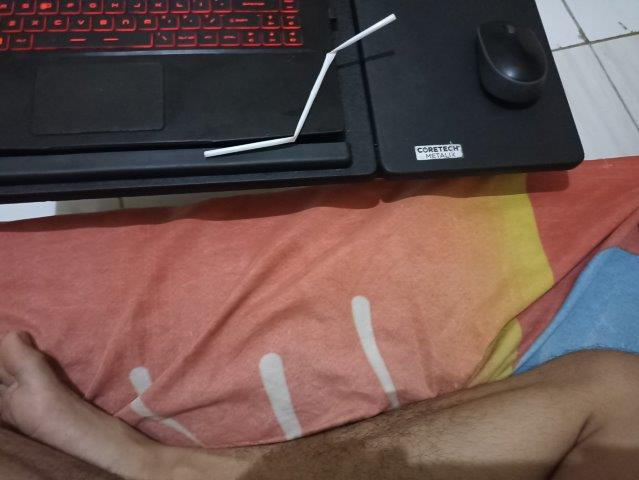sedotan: (206, 15, 395, 157)
